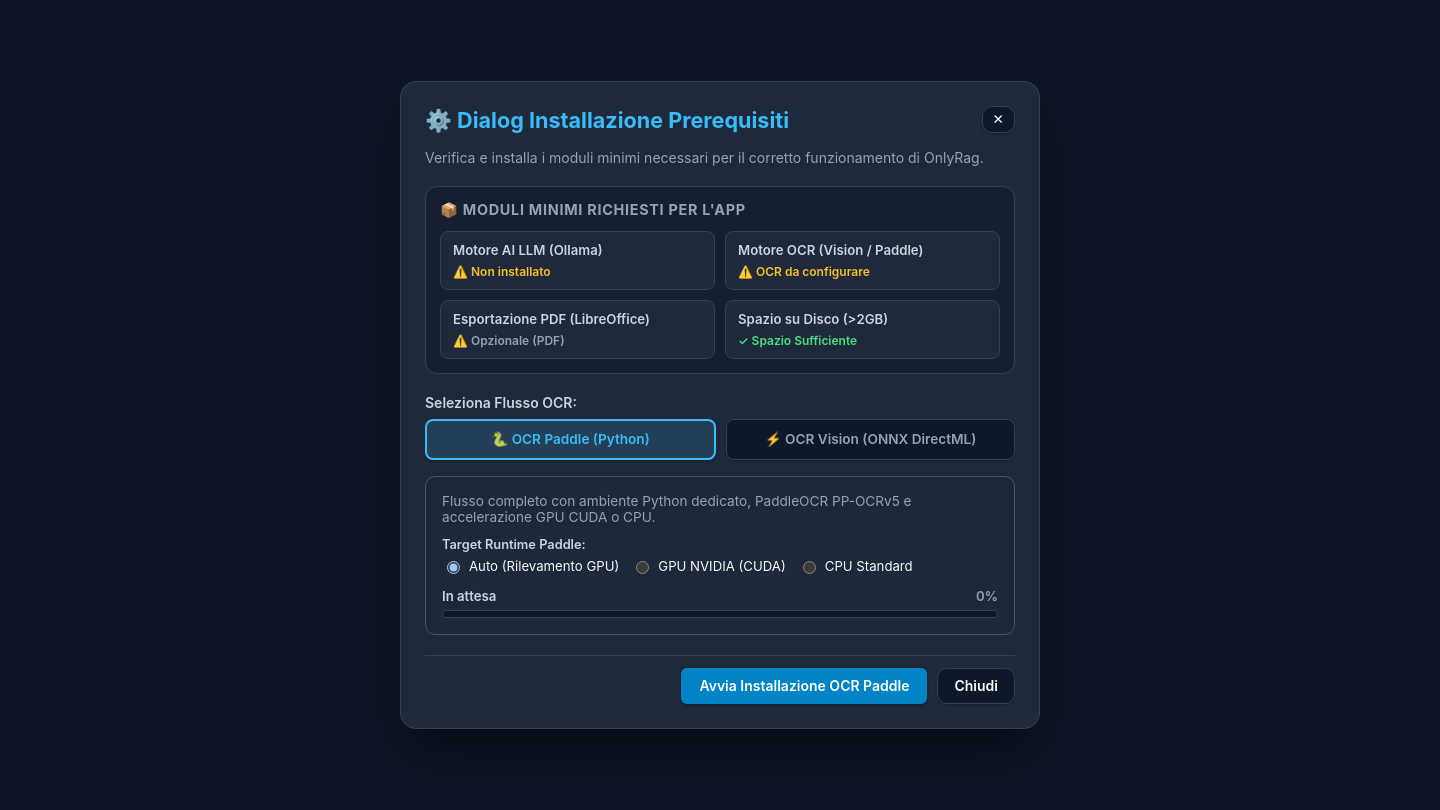
Test: PrerequisitesModal › renders all minimum required module status cards and permits switching OCR flows
Check: the text "Motore AI LLM (Ollama)" is shown, box [453, 242, 603, 258]
Check: the text "Esportazione PDF (LibreOffice)" is shown, box [453, 311, 650, 327]
Click the button "⚡ OCR Vision (ONNX DirectML)": (870, 440) [726, 419, 1015, 460]
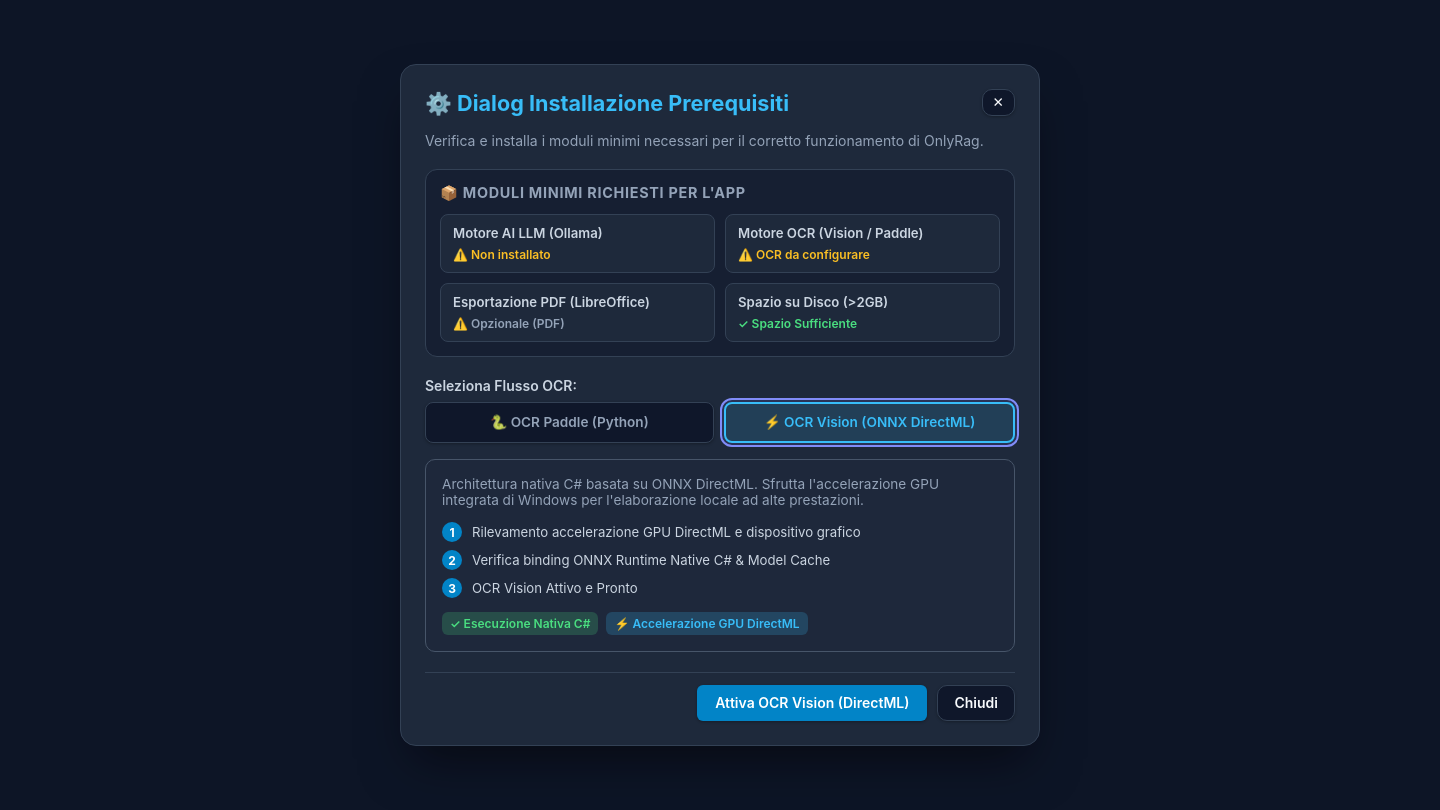
Check: the text "✓ Esecuzione Nativa C#" is shown, box [442, 612, 598, 635]
